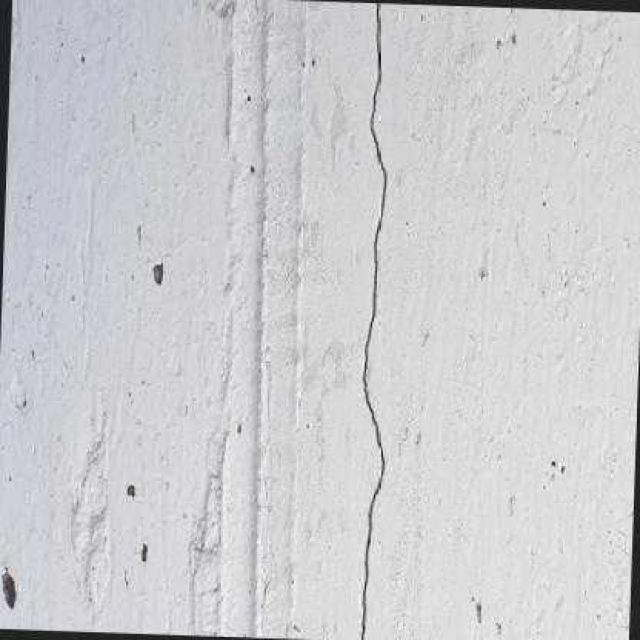D00: (360, 2, 386, 640)
